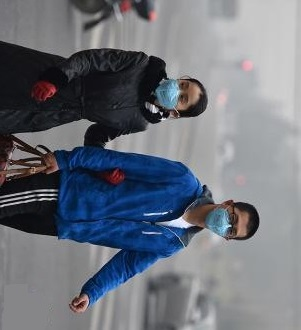person: (7, 147, 260, 316), (1, 38, 210, 146)
